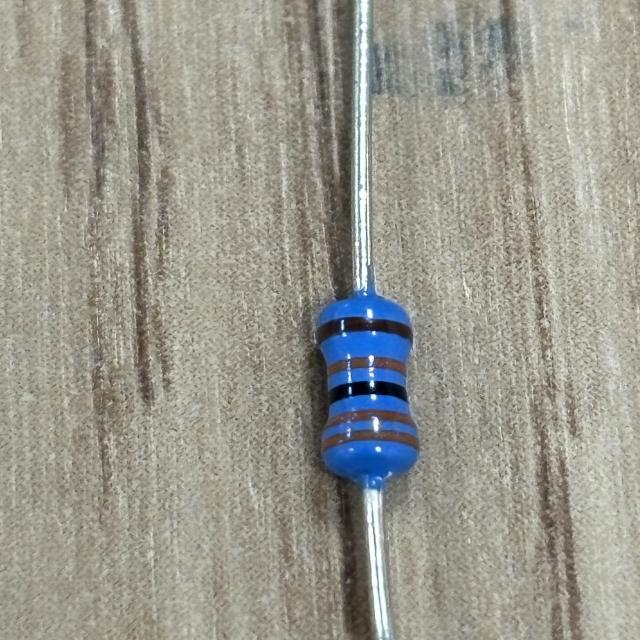resistor: (314, 295, 423, 473)
